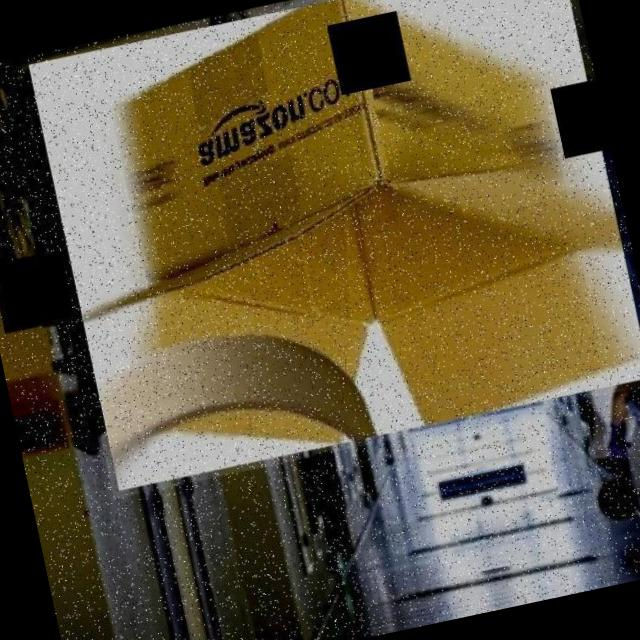box: (19, 0, 640, 498)
